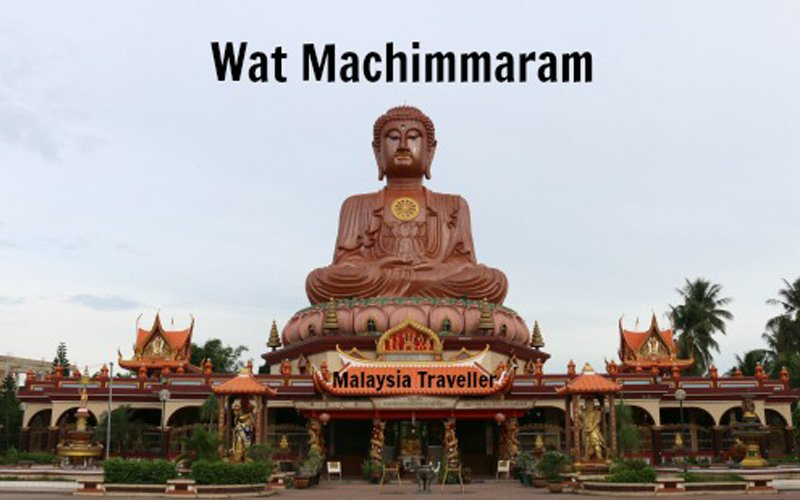Buddhist Temple: (315, 100, 477, 328)
